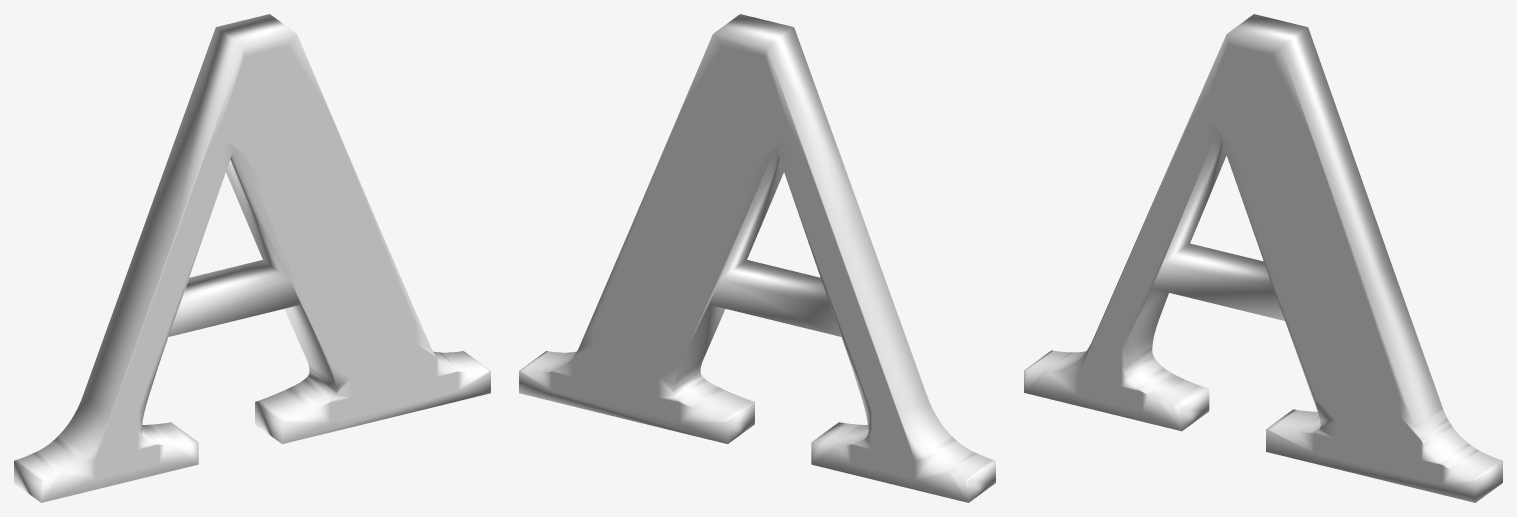
File: a_alphabet.obj
3 renders of one model, left to right at view 1: azimuth 30°, elevation 25°; view 2: azimuth 150°, elevation 25°; view 3: azimuth 330°, elevation 25°, orthographic.
Size of the model in its own units: 592 by 512 by 62.14.
Materials: 1 (1 with a texture image).
